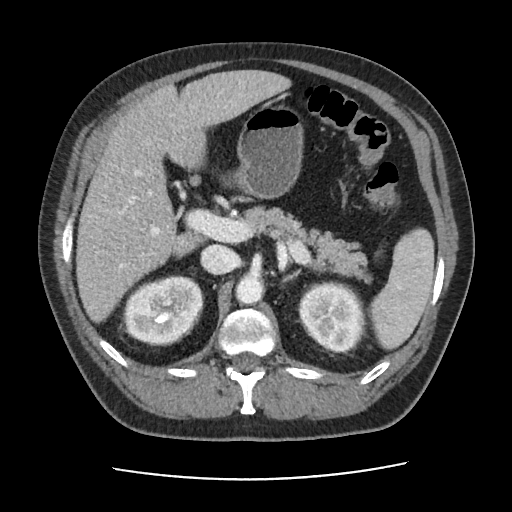Lesion: (151, 308, 174, 327)
